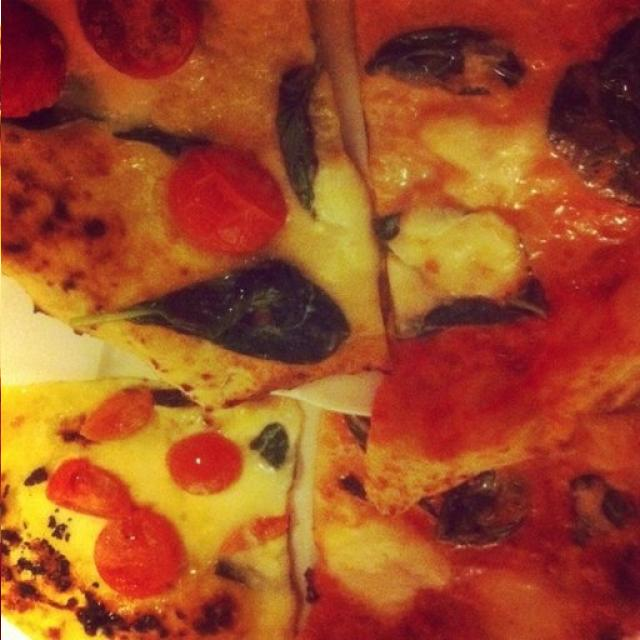basil: (75, 277, 352, 376), (549, 429, 640, 624), (360, 540, 521, 615), (390, 298, 551, 356), (435, 92, 532, 174), (281, 417, 325, 578), (566, 95, 640, 169), (0, 503, 115, 543), (116, 479, 210, 514), (257, 168, 290, 216), (346, 188, 376, 230)
pizza: (1, 0, 640, 640)
